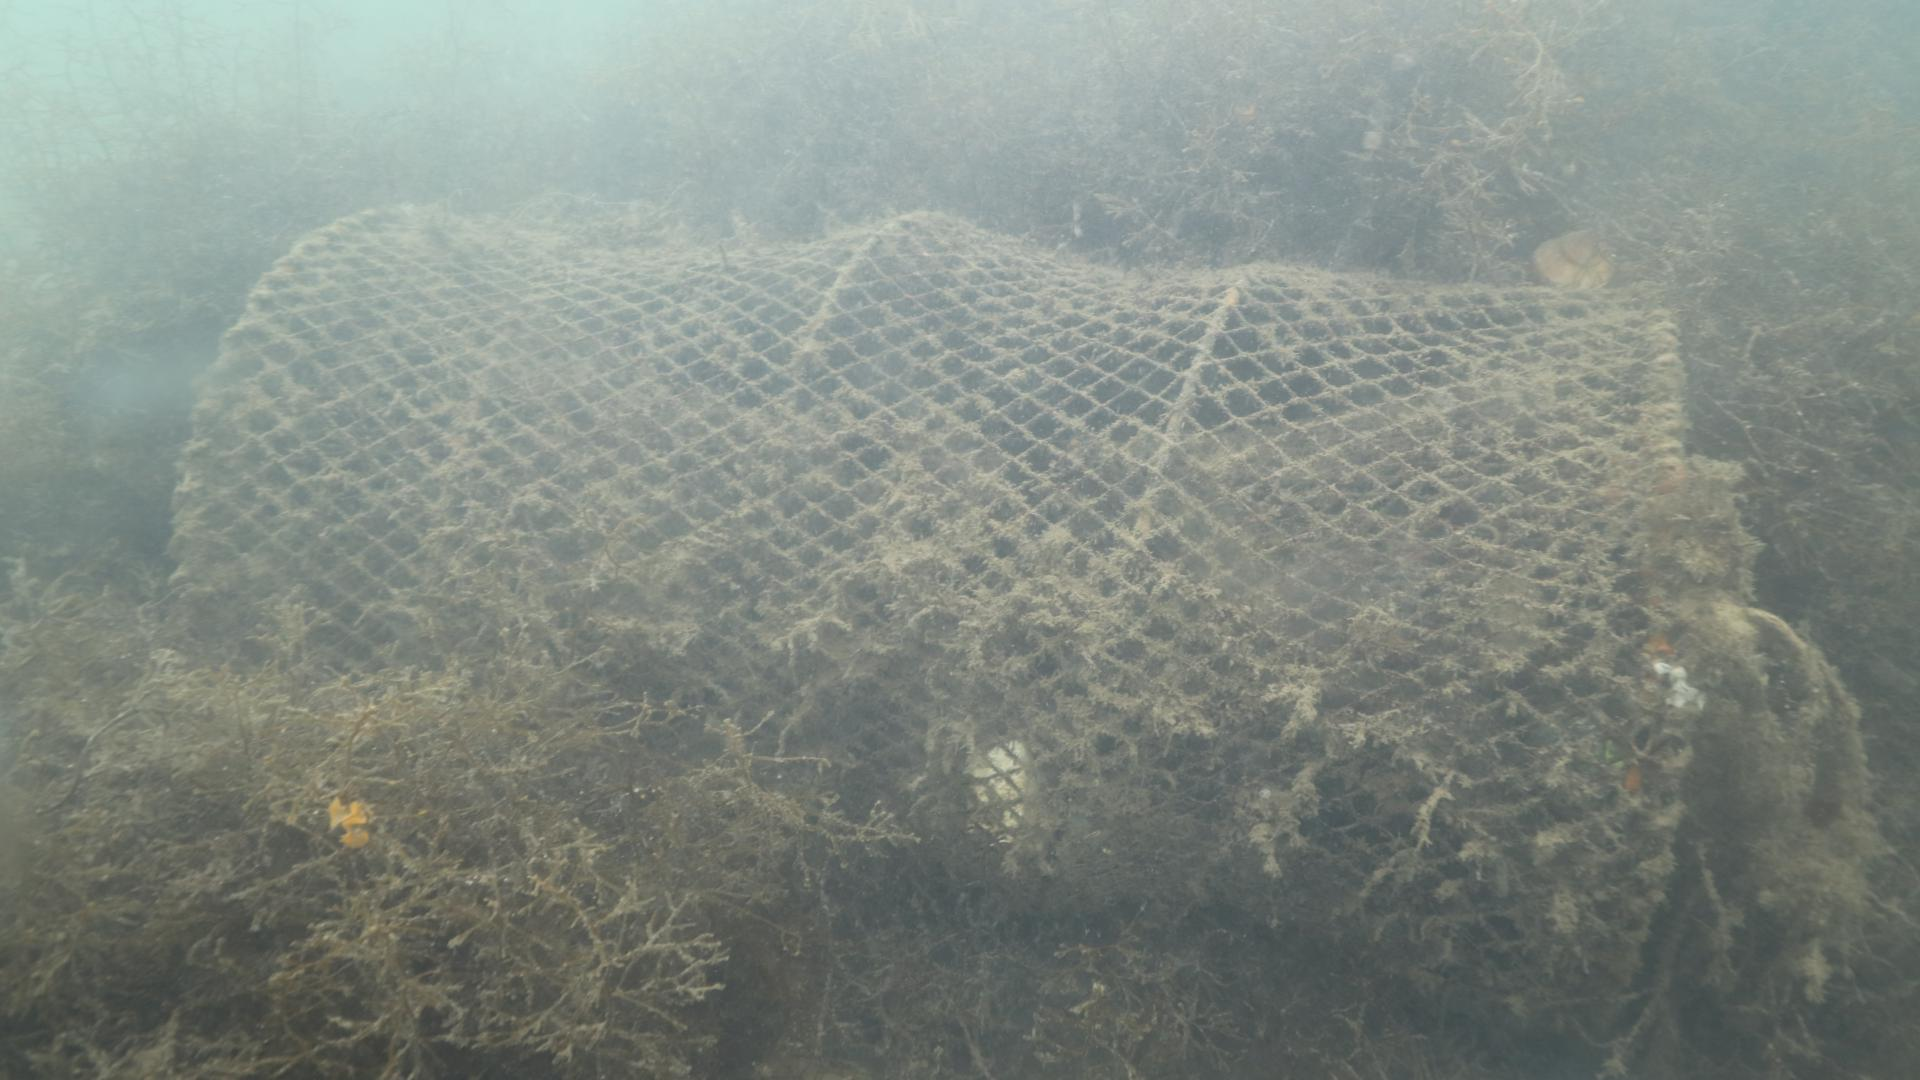spring fish trap: (171, 200, 1687, 1042)
